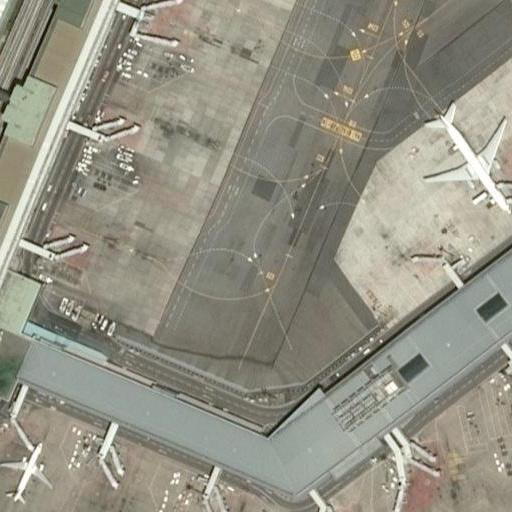Aircraft: (422, 101, 512, 213), (0, 438, 49, 504)
